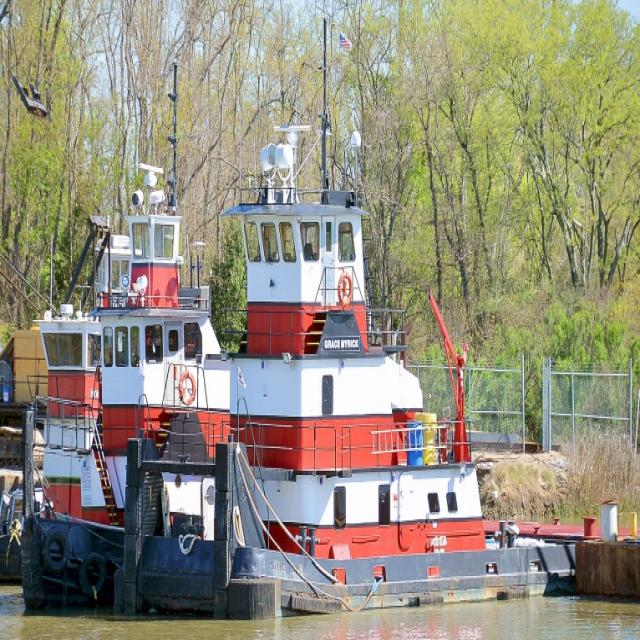tugboat: (109, 117, 628, 636)
